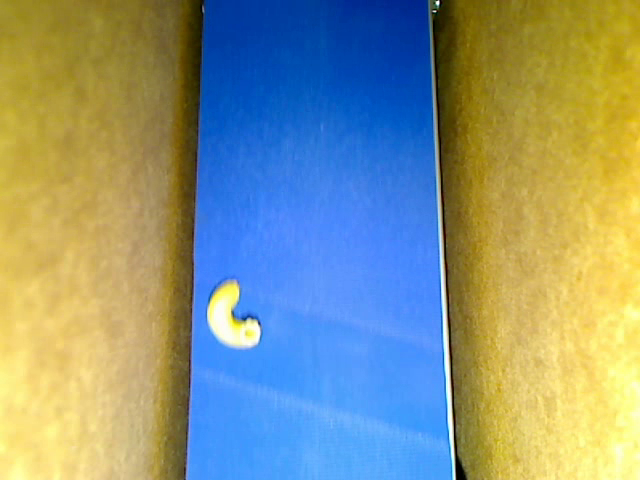elbow: (205, 279, 262, 350)
